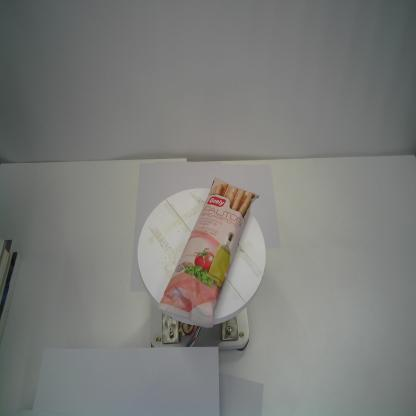Dessert: (158, 176, 260, 330)
